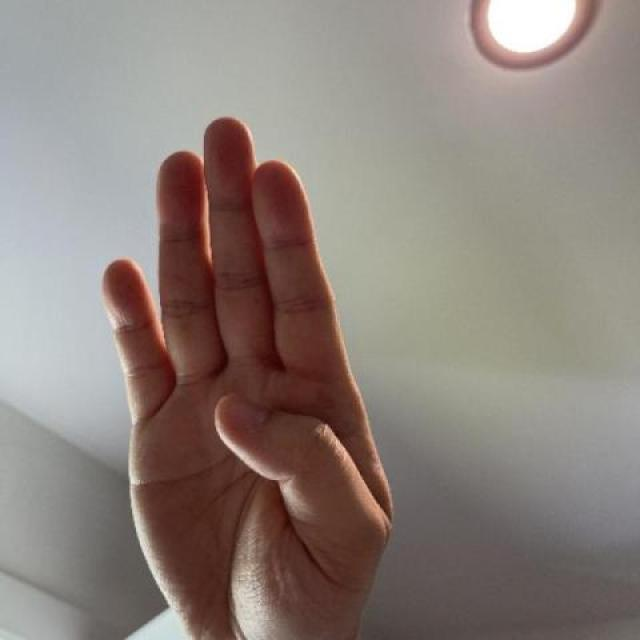Open Hand: (96, 110, 396, 638)
